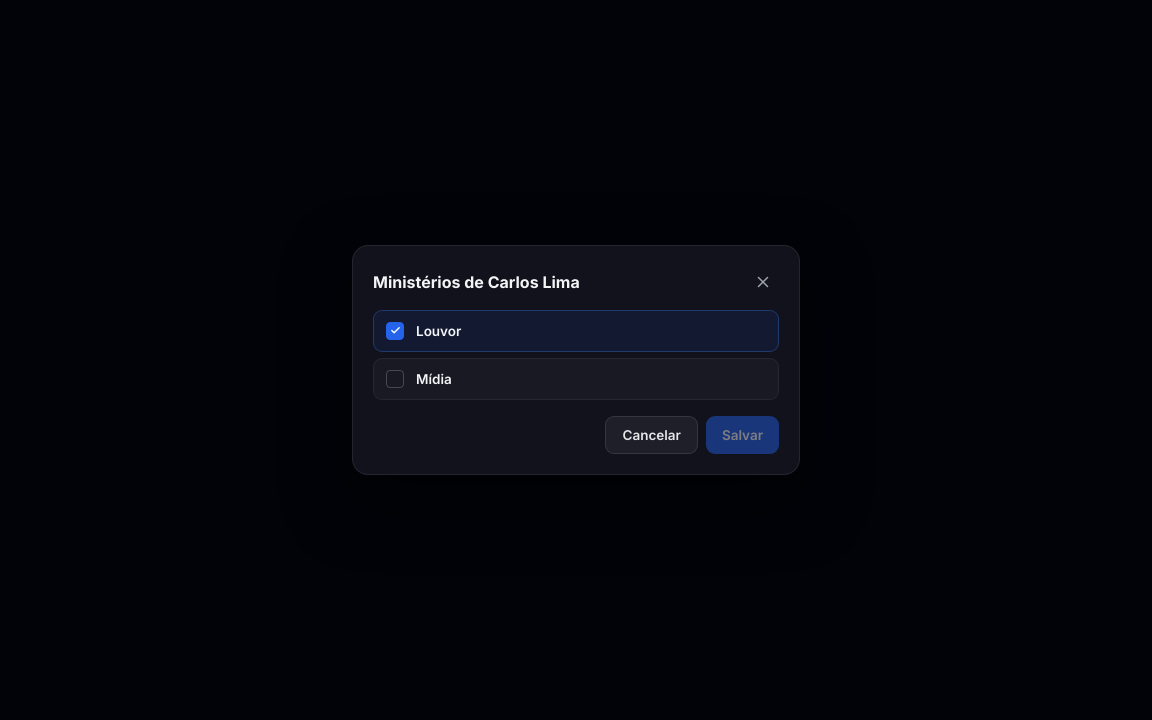
it: ManageMinistriesModal › Salvar desabilitado se toggle volta ao estado original
This screenshot has width=1152, height=720.
Expected: the text "Louvor" is shown, [416, 323, 461, 339]
toggle Mídia in, then back out → back to original
Click the button "Mídia": (434, 379) [373, 358, 779, 400]
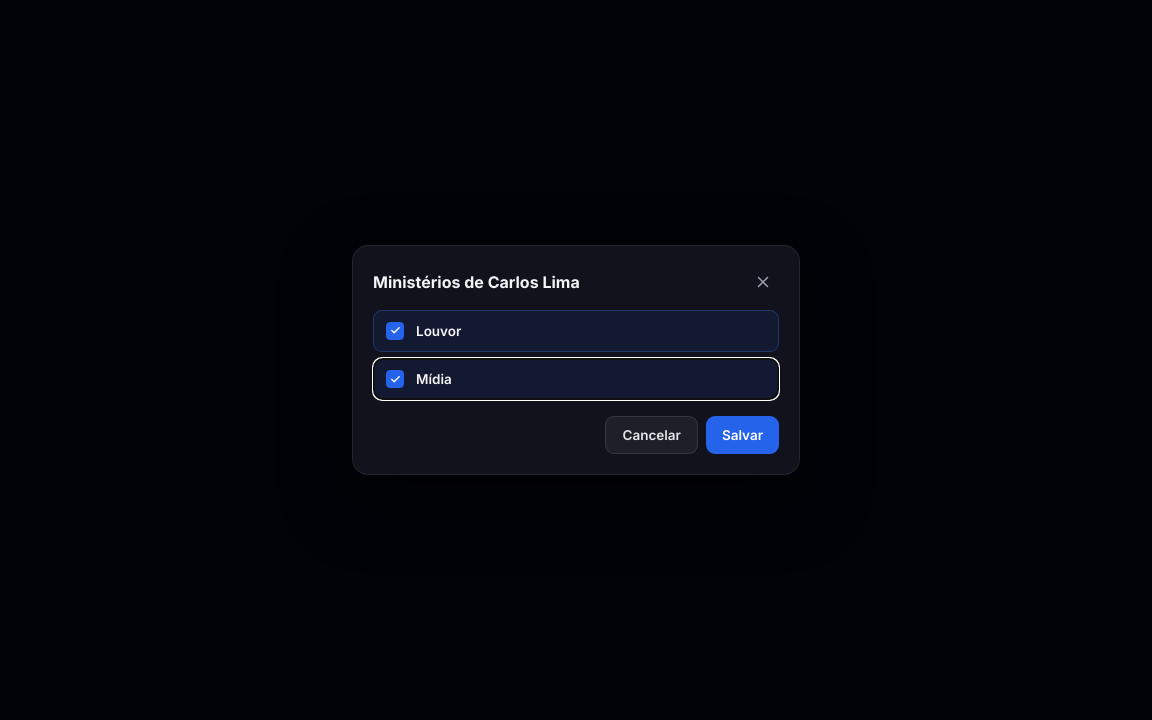
Now the button "Salvar" is enabled, box [706, 416, 779, 454]
Click the button "Mídia": (434, 379) [373, 358, 779, 400]
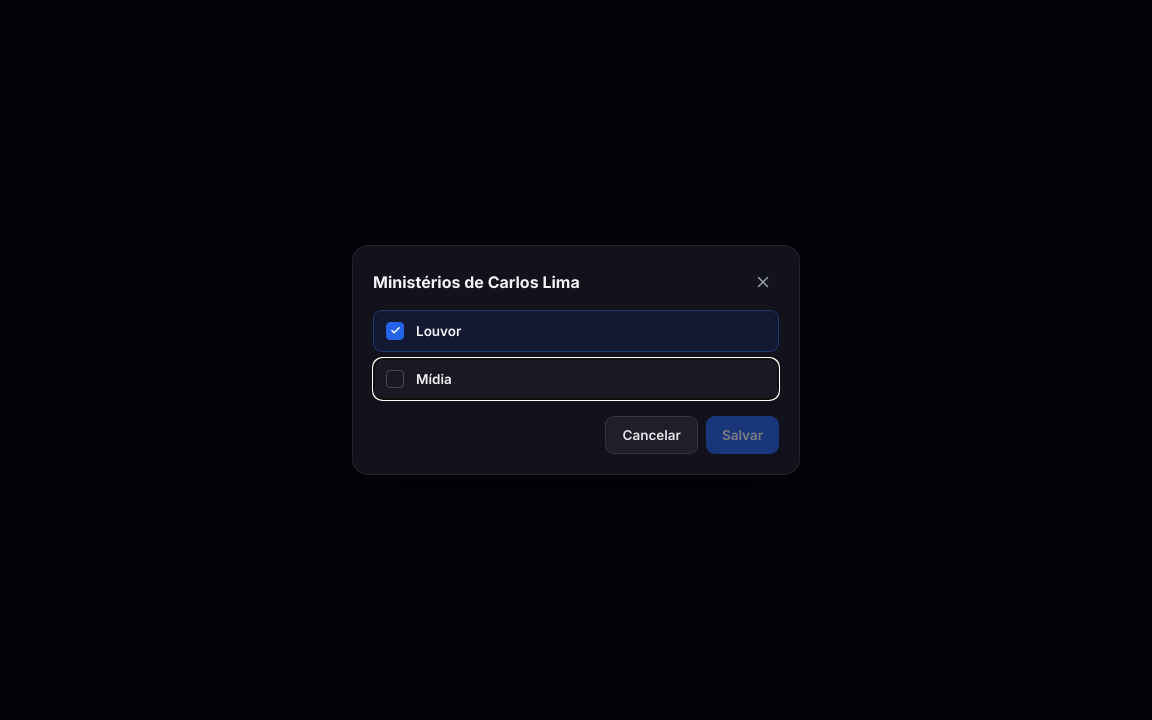
Now the button "Salvar" is disabled, box [706, 416, 779, 454]
